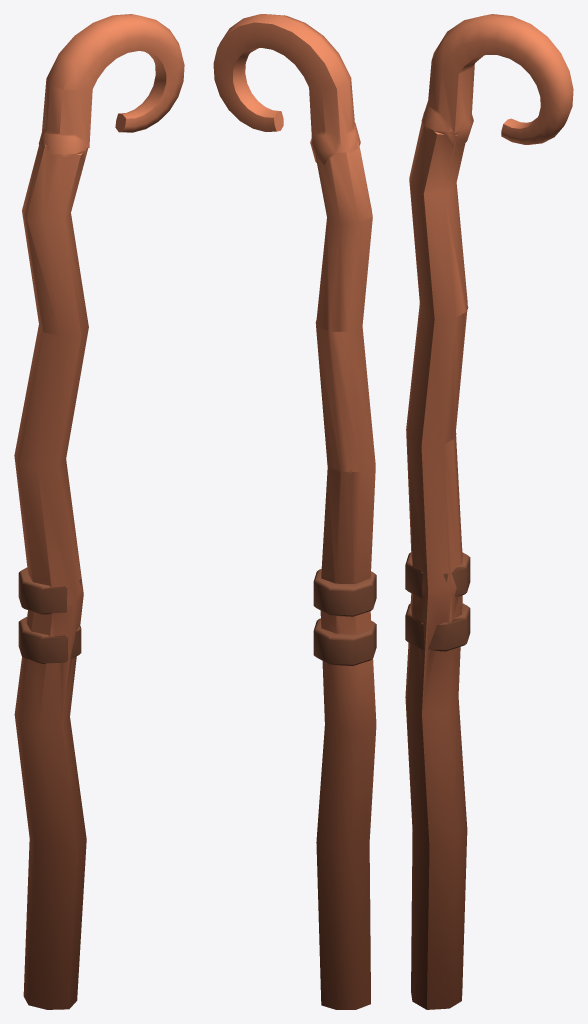
Rendered from staff_crooked.glb.
3 renders of one model, left to right at view 1: azimuth 30°, elevation 25°; view 2: azimuth 150°, elevation 25°; view 3: azimuth 330°, elevation 25°, orthographic. The views are drawn at different scales.
Parts seen in each view (by area): view 1: Item; view 2: Item; view 3: Item.
Part boxes in pixels (box(x1,y1,x2,y2)): Item: box(14, 14, 184, 1009); Item: box(213, 14, 376, 1009); Item: box(405, 14, 573, 1009).
Bounding box in the file's own units: 0.4125 × 2.36 × 0.1527.
1 material, 1 textured.
